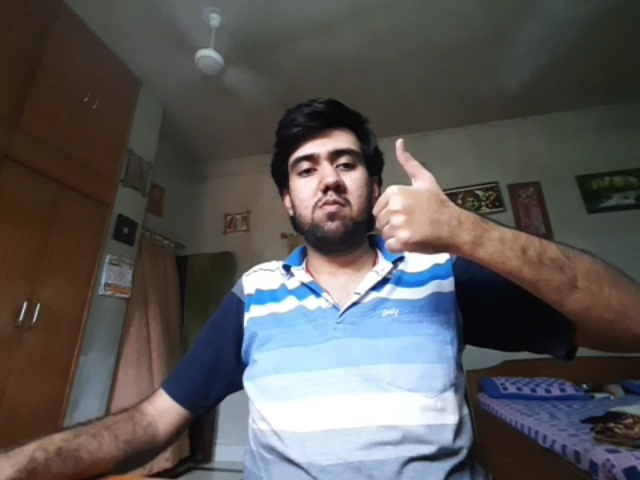Ok: (372, 138, 445, 251)
